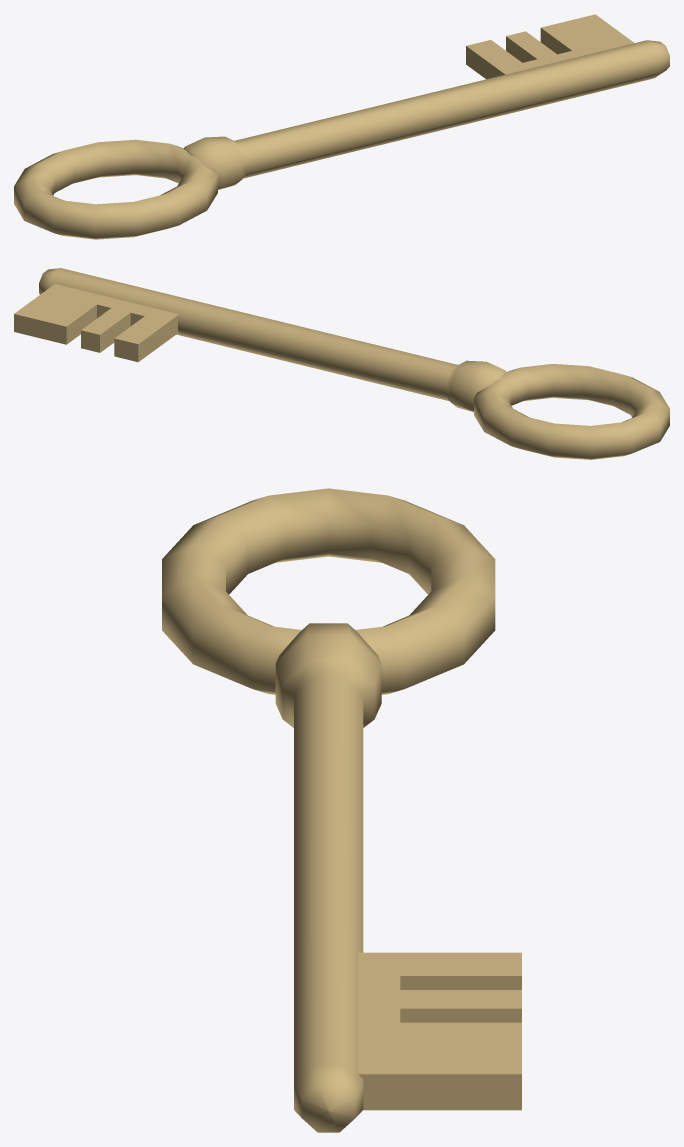
The model's file is Item_Key.fbx.
3 renders of one model, top to bottom at view 1: azimuth 30°, elevation 25°; view 2: azimuth 150°, elevation 25°; view 3: azimuth 270°, elevation 25°, orthographic. The views are drawn at different scales.
Parts seen in each view (by area): view 1: Item_Key; view 2: Item_Key; view 3: Item_Key.
Boxes of the visible parts, x1,y1,x2,y2 form: Item_Key: (14, 14, 669, 239); Item_Key: (14, 268, 669, 459); Item_Key: (162, 488, 521, 1132).
Size of the model in its own units: 0.1289 by 0.0086 by 0.0326.
